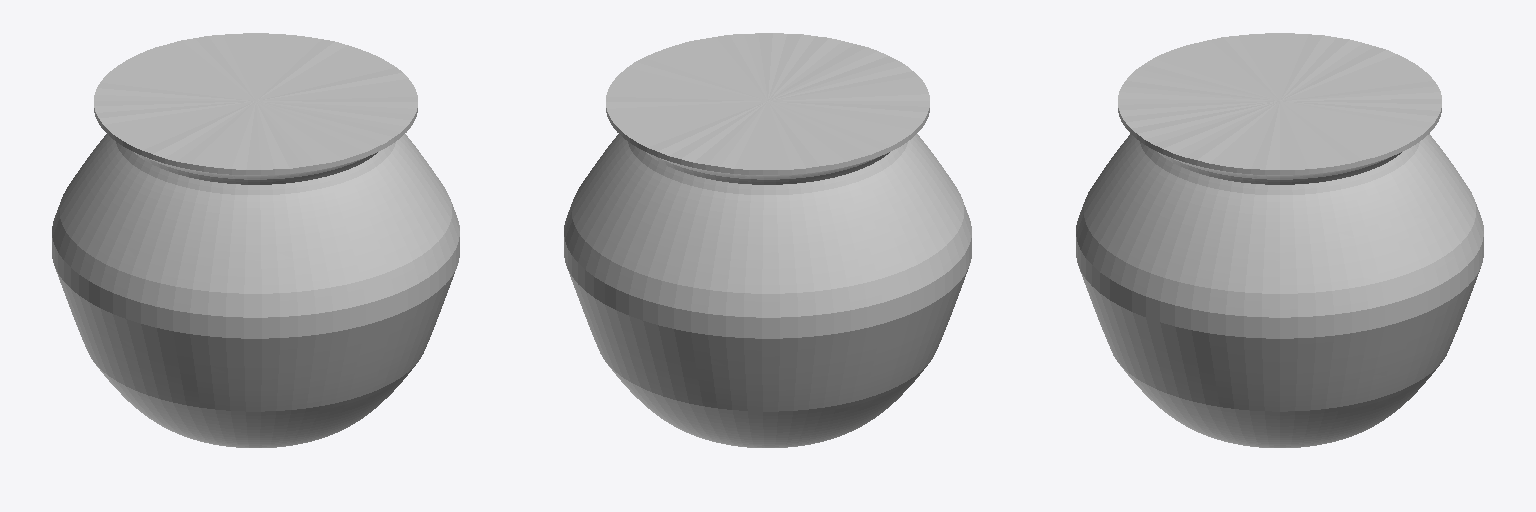
The model's file is vase-2.obj.
3 views of the same model, side by side, from view 1: azimuth 30°, elevation 25°; view 2: azimuth 150°, elevation 25°; view 3: azimuth 270°, elevation 25° (orthographic).
Parts seen in each view (by area): view 1: vase-nathan-gregg; view 2: vase-nathan-gregg; view 3: vase-nathan-gregg.
Part boxes in pixels (left/top/right/bottom): vase-nathan-gregg: left=52, top=33, right=459, bottom=447; vase-nathan-gregg: left=564, top=33, right=971, bottom=447; vase-nathan-gregg: left=1076, top=33, right=1483, bottom=447.
Size of the model in its own units: 4.78 by 4 by 4.78.